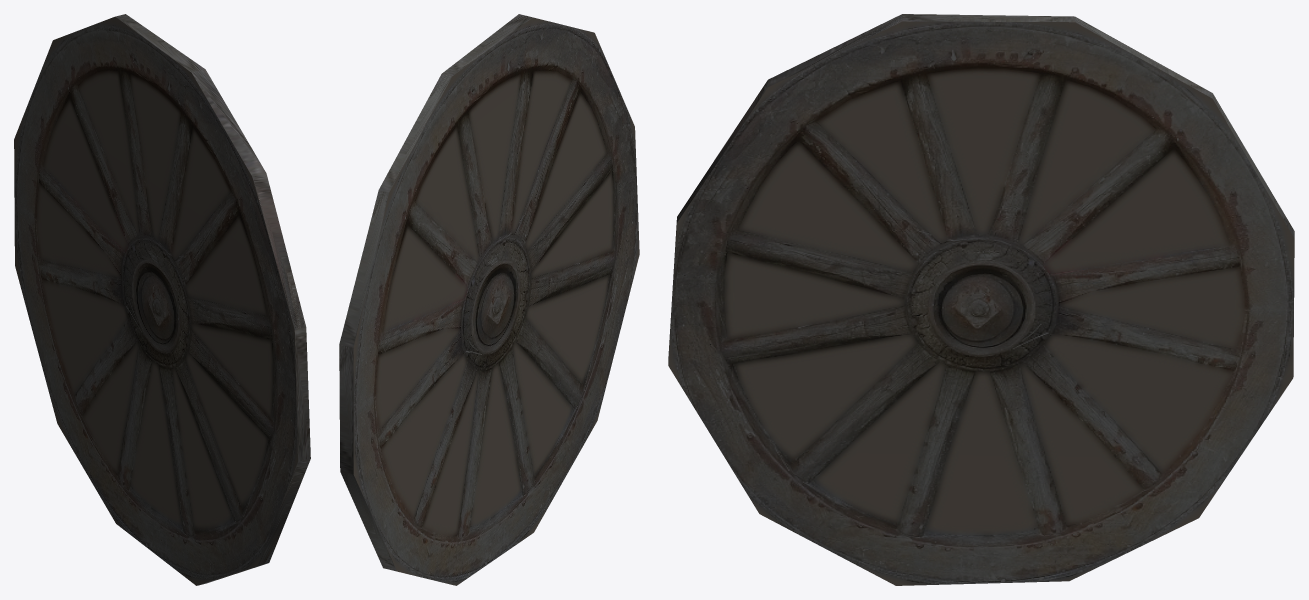
Rendered from Wheel_LOD03.fbx.
3 renders of one model, left to right at view 1: azimuth 30°, elevation 25°; view 2: azimuth 150°, elevation 25°; view 3: azimuth 270°, elevation 25°, orthographic. The views are drawn at different scales.
Parts seen in each view (by area): view 1: Mesh Object; view 2: Mesh Object; view 3: Mesh Object.
Boxes of the visible parts, x1,y1,x2,y2 form: Mesh Object: [14, 14, 310, 585]; Mesh Object: [339, 14, 639, 585]; Mesh Object: [668, 14, 1294, 585].
Size of the model in its own units: 0.0365 by 1.26 by 1.26.
